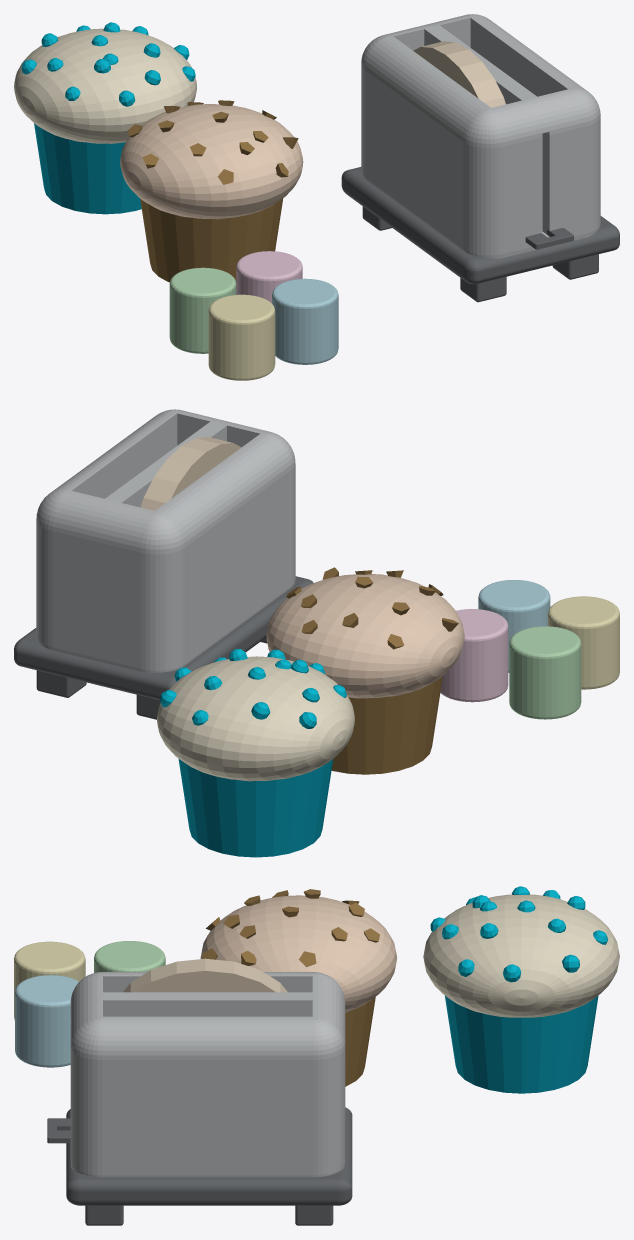
File: model collection.glb
3 renders of one model, top to bottom at view 1: azimuth 30°, elevation 25°; view 2: azimuth 150°, elevation 25°; view 3: azimuth 270°, elevation 25°, orthographic. The views are drawn at different scales.
Visible parts, largest first — view 1: Mesh_Mesh_head_geo.001_lambert2SG.001; view 2: Mesh_Mesh_head_geo.001_lambert2SG.001; view 3: Mesh_Mesh_head_geo.001_lambert2SG.001.
Part boxes in pixels (x1,y1,x2,y2): Mesh_Mesh_head_geo.001_lambert2SG.001: (14, 14, 619, 380); Mesh_Mesh_head_geo.001_lambert2SG.001: (14, 409, 619, 857); Mesh_Mesh_head_geo.001_lambert2SG.001: (14, 886, 619, 1225).
Size of the model in its own units: 547 by 251 by 636.
